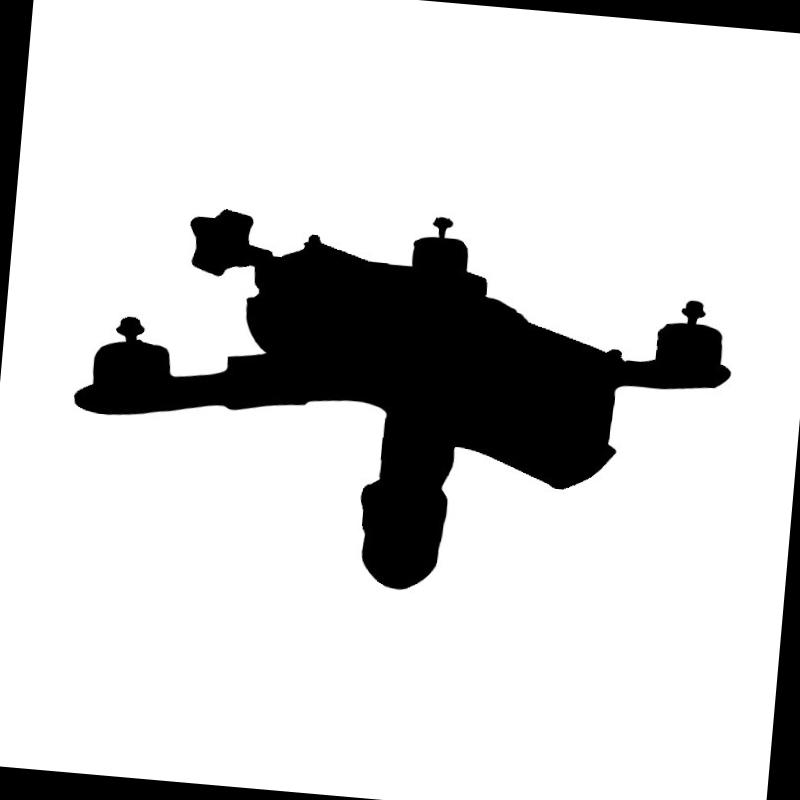drone: (57, 156, 782, 635)
